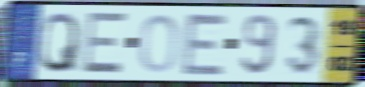3: (285, 15, 322, 77)
9: (239, 12, 278, 77)
E: (180, 11, 231, 78), (79, 10, 130, 76)
O: (138, 12, 182, 75)
Q: (37, 10, 81, 75)
